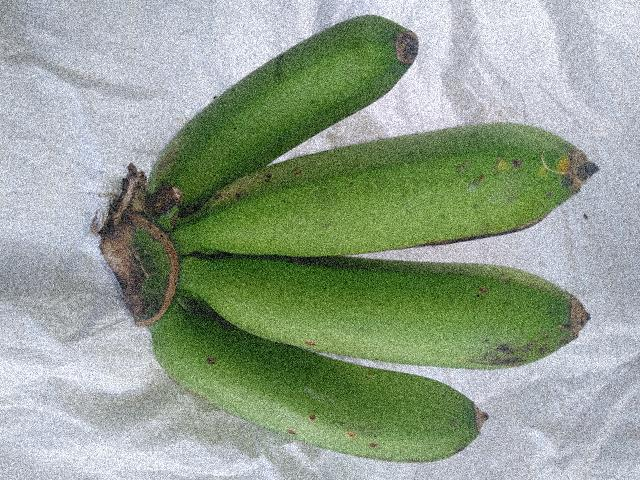rotten: (454, 302, 560, 394)
unripe: (167, 107, 604, 258), (180, 239, 603, 377), (134, 313, 483, 465), (155, 10, 420, 207)
